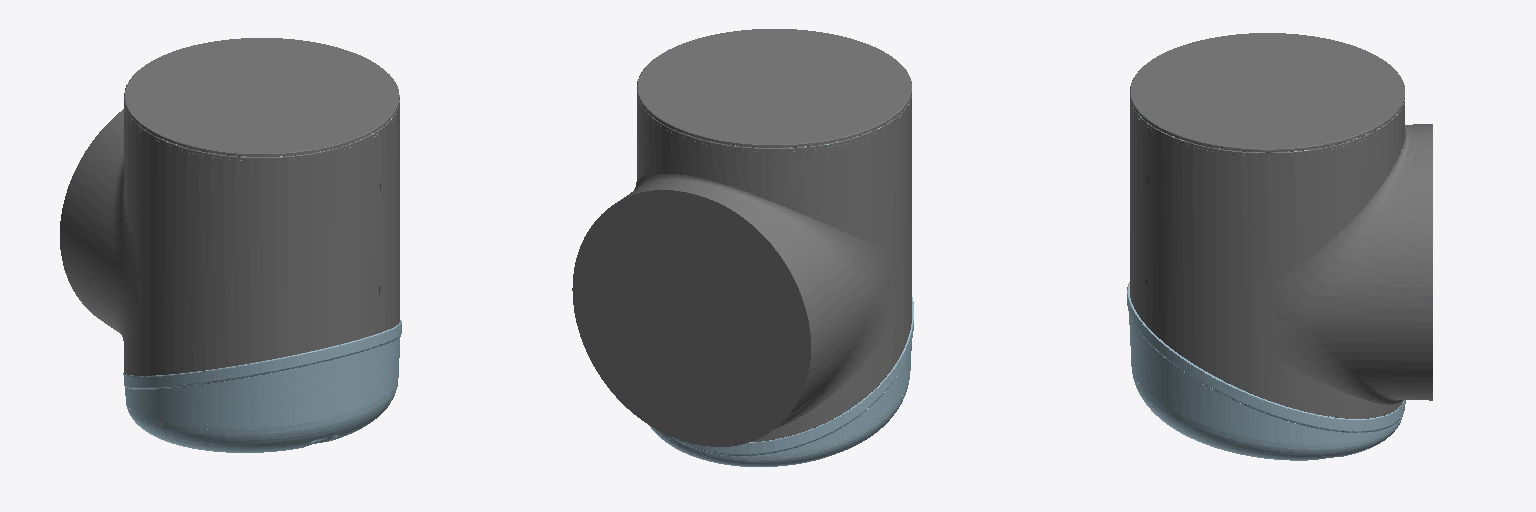
3 views of the same model, side by side, from view 1: azimuth 30°, elevation 25°; view 2: azimuth 150°, elevation 25°; view 3: azimuth 270°, elevation 25° (orthographic).
Parts seen in each view (by area): view 1: wrist2; view 2: wrist2; view 3: wrist2.
Part boxes in pixels (x1,y1,x2,y2): wrist2: (60, 38, 401, 452); wrist2: (572, 29, 913, 466); wrist2: (1127, 33, 1432, 460).
Size of the model in its own units: 0.091 by 0.1188 by 0.0999.
Materials: 1 (1 with a texture image).